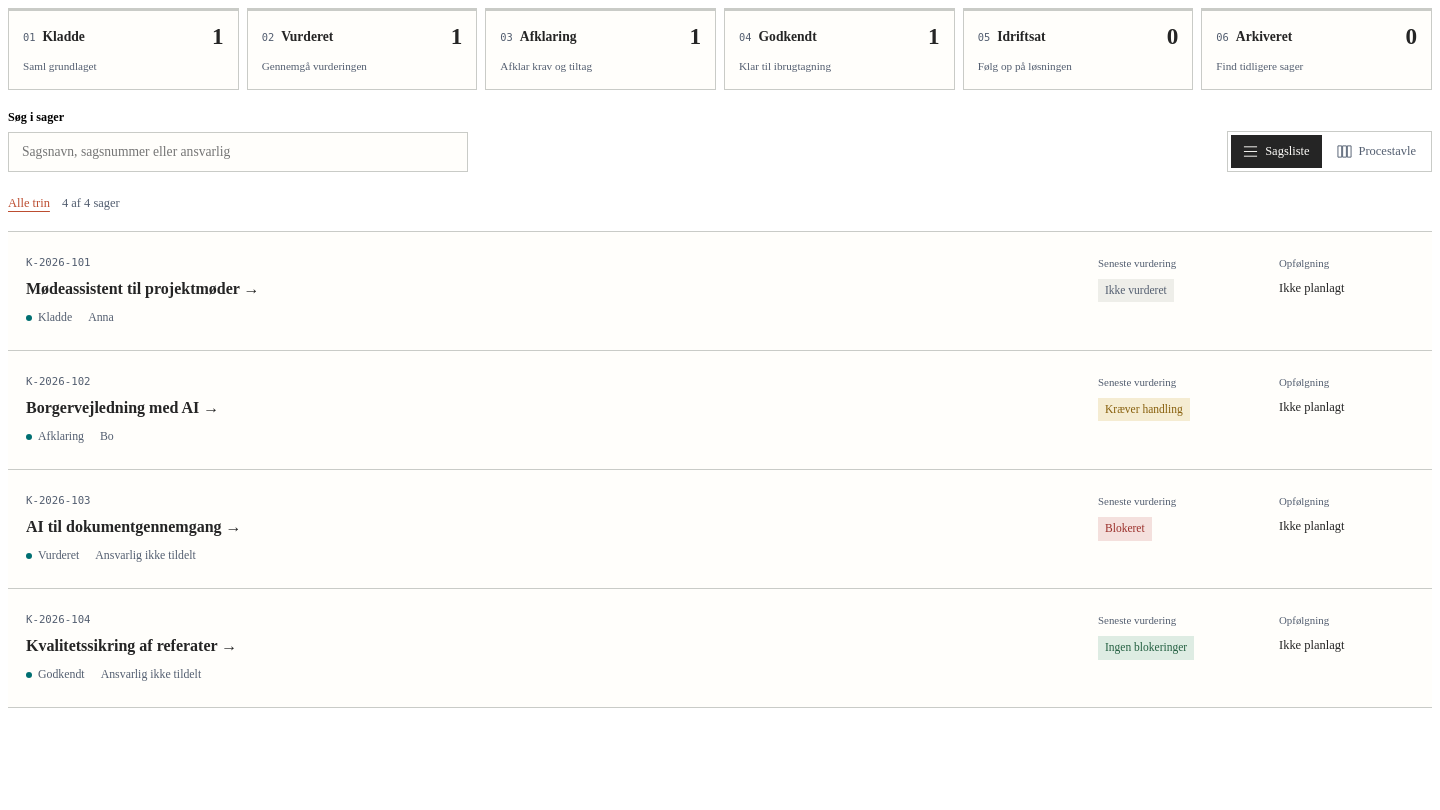
Test case: ingen match kan nulstilles uden at miste sager eller valgt scope
Click the button with aria-label "Kladde: 1 sager" at {"x": 123, "y": 49}, box [8,8,239,90]
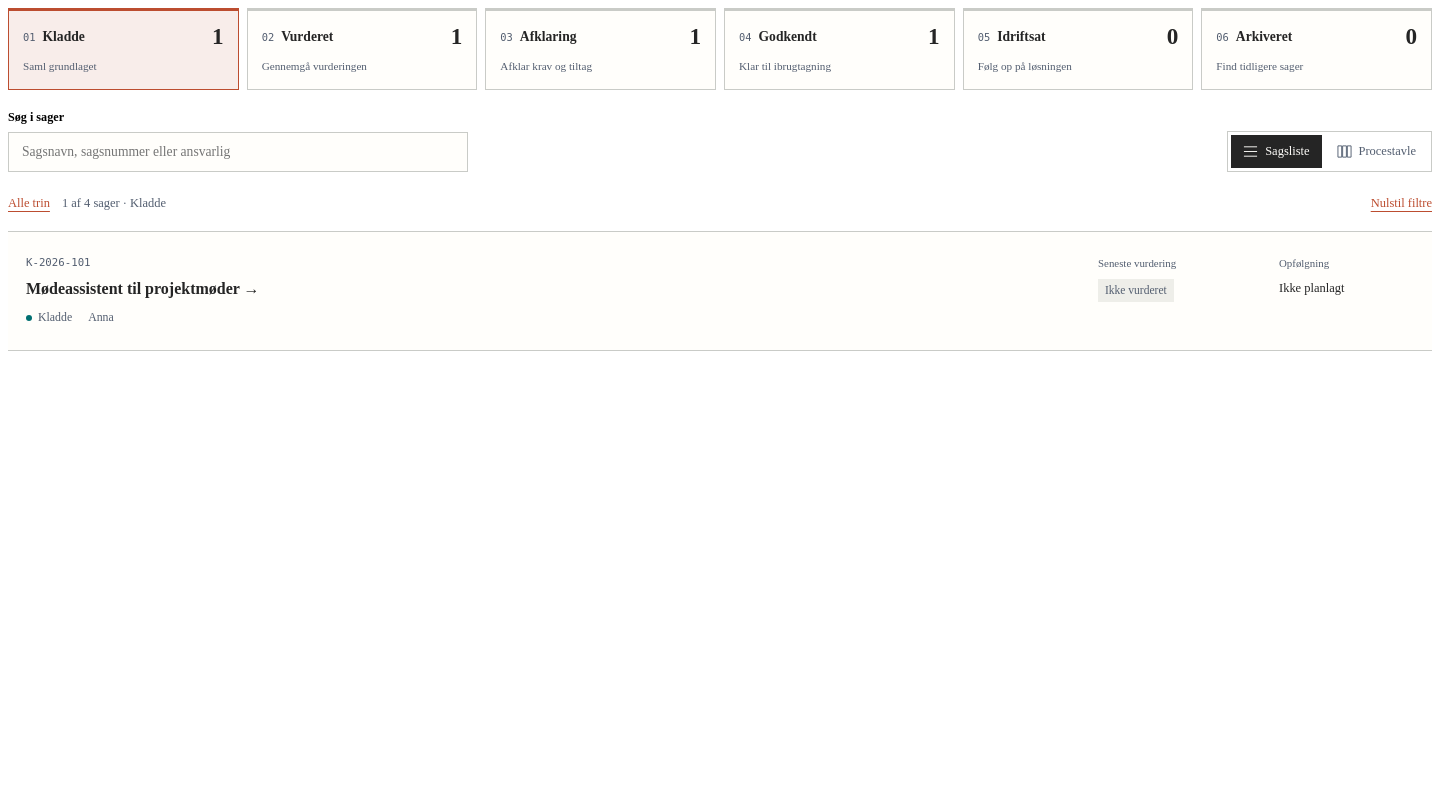
Type "ukendt løsning xyz" into the search field labelled "Søg i sager" at {"x": 238, "y": 152}, box [8,132,468,172]
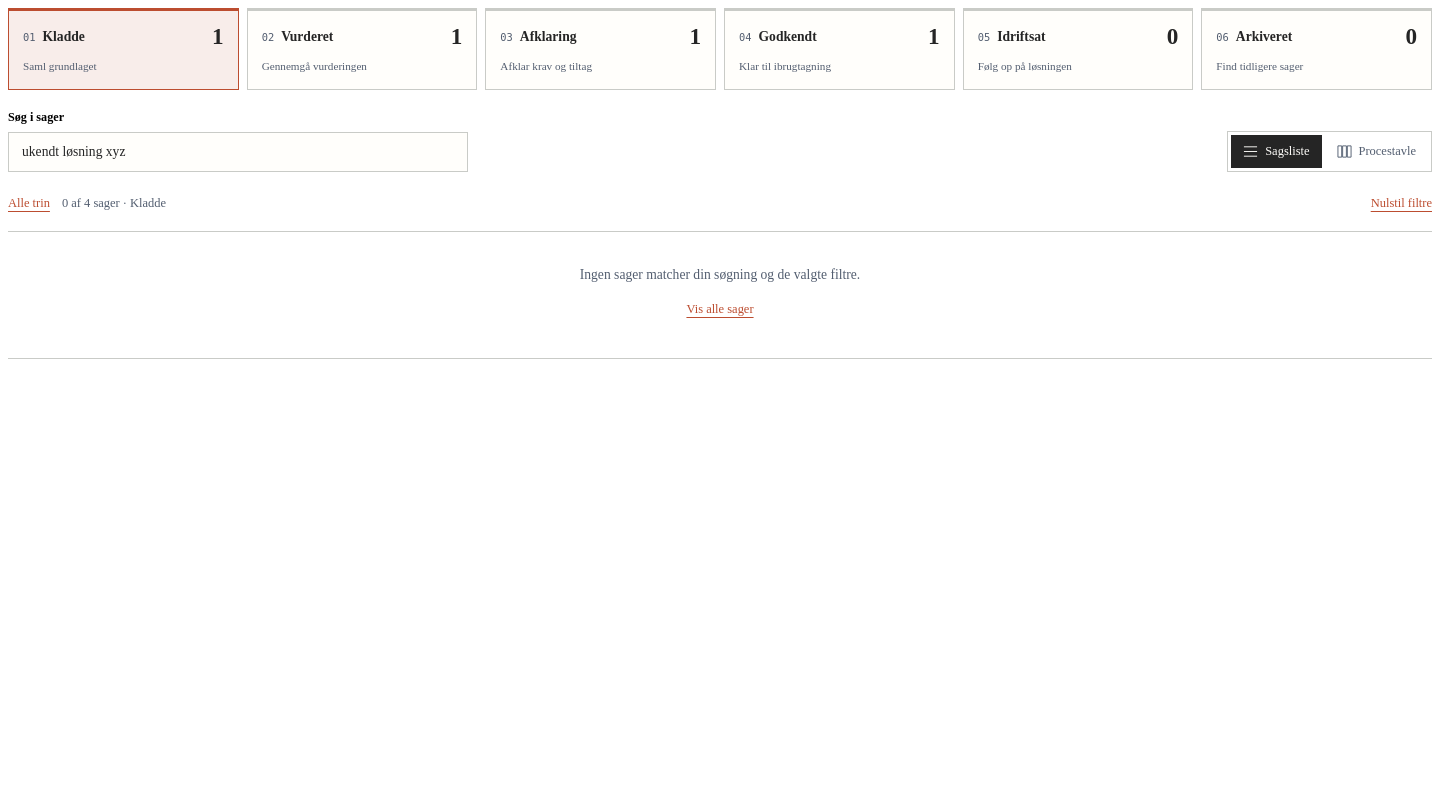
Check: the link "Mødeassistent til projektmøder" is gone
Click the button "Nulstil filtre" at {"x": 1401, "y": 203}, box [1371,190,1432,217]
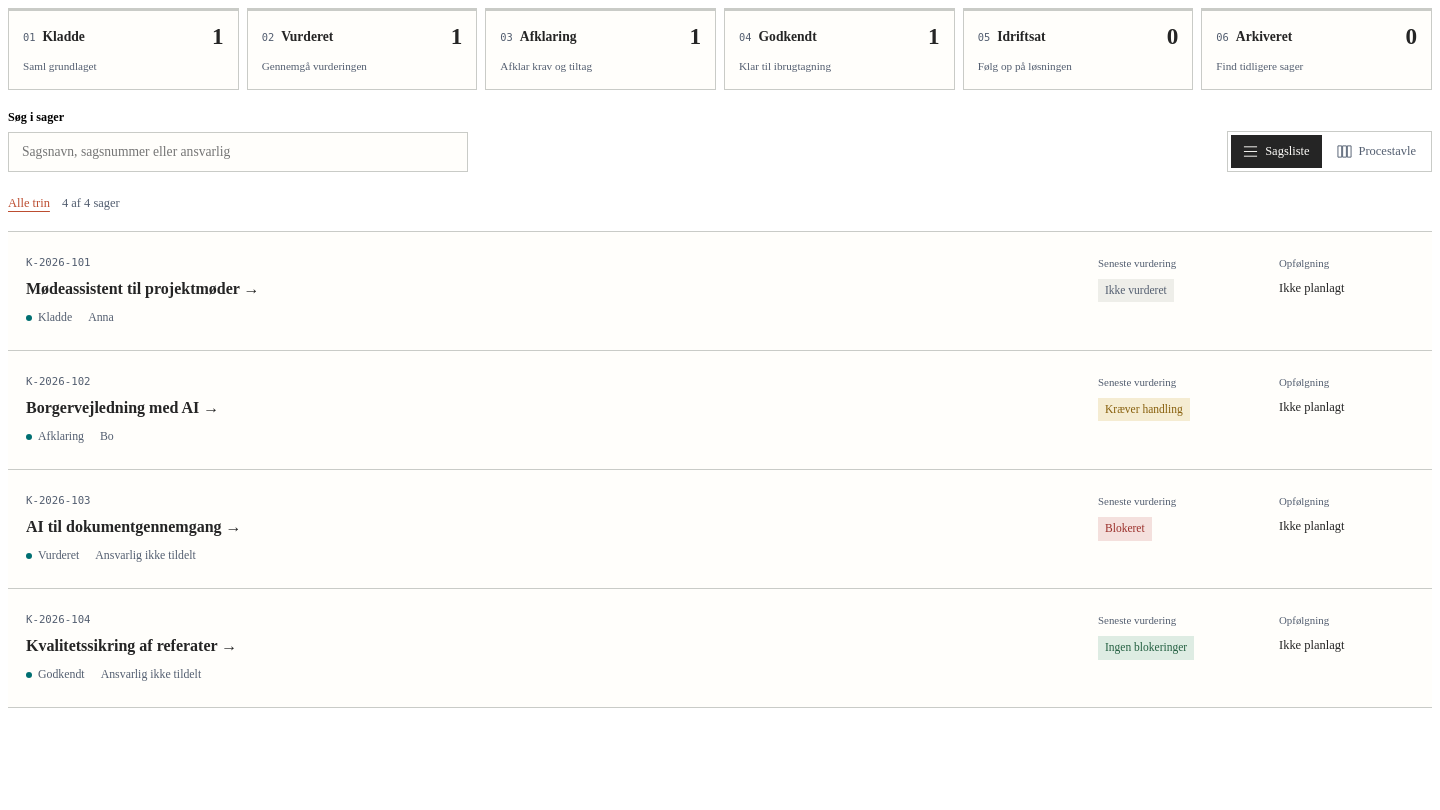
Check: the search field labelled "Søg i sager" is empty, box [8,132,468,172]
Check: the number of links is 4, box [26,280,260,297]; [26,399,219,416]; [26,518,242,535]; [26,637,237,654]
